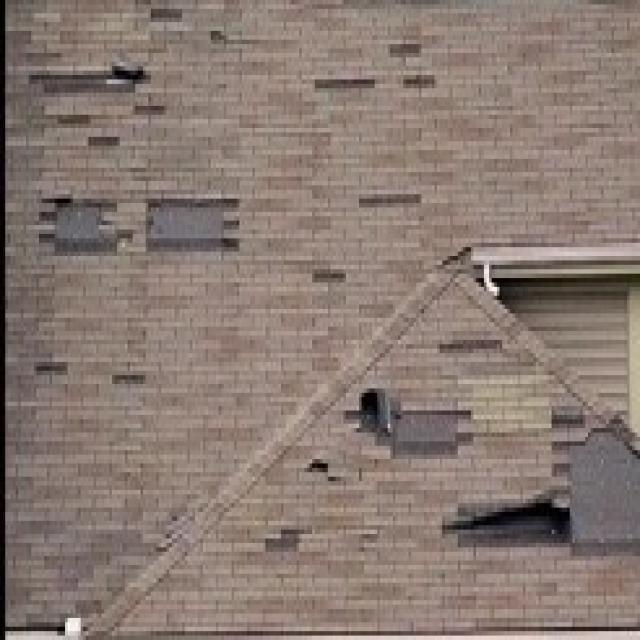damage: (548, 397, 640, 596), (344, 386, 487, 464), (435, 494, 569, 568), (143, 187, 244, 260), (34, 196, 136, 259), (26, 64, 154, 100), (264, 518, 318, 558), (433, 334, 507, 362), (436, 238, 484, 280), (357, 187, 427, 214), (300, 452, 347, 492), (385, 29, 431, 61), (314, 73, 382, 94), (398, 71, 449, 95), (110, 361, 148, 392), (308, 265, 353, 291), (83, 130, 123, 154), (33, 357, 73, 381), (56, 108, 94, 132), (132, 100, 170, 124), (147, 6, 189, 25), (207, 27, 233, 49)
